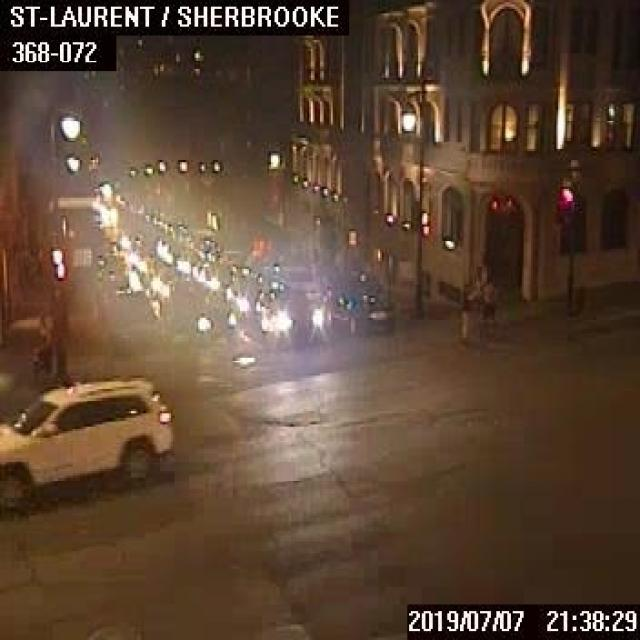pedestrian: (34, 316, 52, 371), (454, 289, 471, 335), (478, 271, 493, 320)
vehicle: (0, 373, 173, 502), (260, 288, 322, 345), (326, 280, 391, 334)
